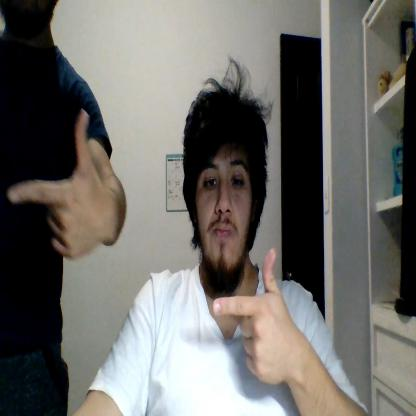G: (8, 110, 102, 260), (213, 249, 290, 384)
